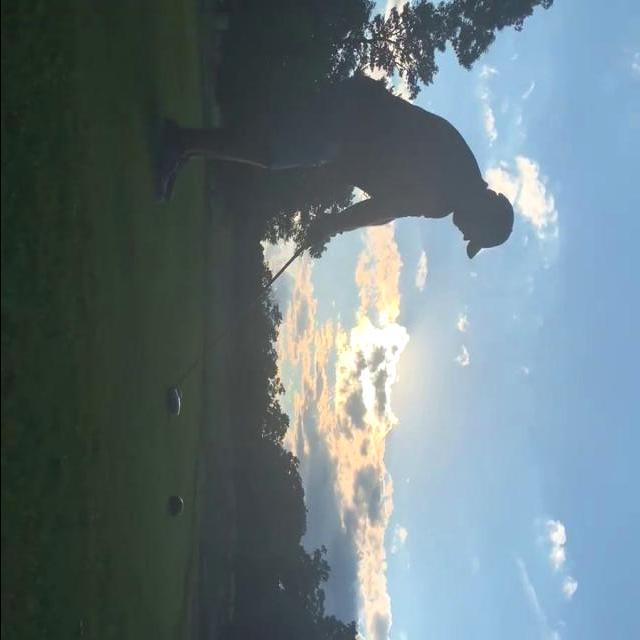golf ball: (175, 387, 184, 400)
golf club-handle: (168, 244, 310, 417)
golf club-head: (166, 386, 181, 417)
